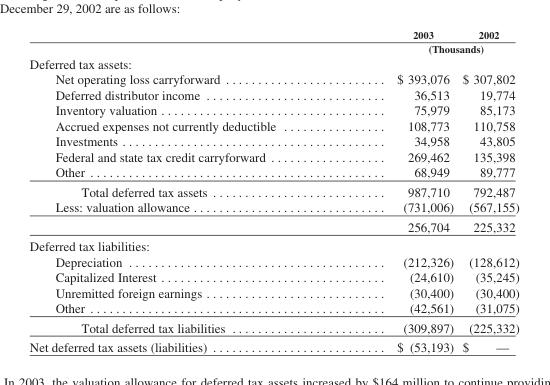table: (28, 28, 518, 353)
table column: (28, 28, 335, 353), (335, 28, 457, 353), (457, 28, 518, 353)
table column header: (28, 28, 518, 55)
table projected row header: (28, 236, 518, 253), (28, 55, 518, 71)
table row: (28, 216, 518, 236), (28, 317, 518, 336), (28, 181, 518, 199), (28, 164, 518, 181), (28, 199, 518, 216), (28, 236, 518, 253), (28, 300, 518, 317), (28, 336, 518, 353), (28, 55, 518, 71), (28, 86, 518, 102), (28, 117, 518, 133), (28, 148, 518, 164), (28, 268, 518, 284), (28, 284, 518, 300), (28, 71, 518, 86), (28, 102, 518, 117), (28, 133, 518, 148), (28, 253, 518, 268), (28, 41, 518, 55), (28, 28, 518, 41)
table spanning cell: (335, 41, 518, 55)
